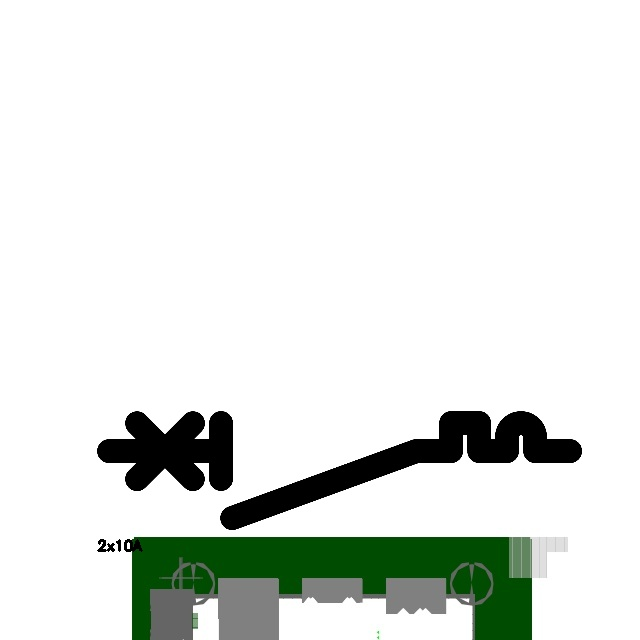interruptor_termomagnetico: (97, 411, 582, 529)
